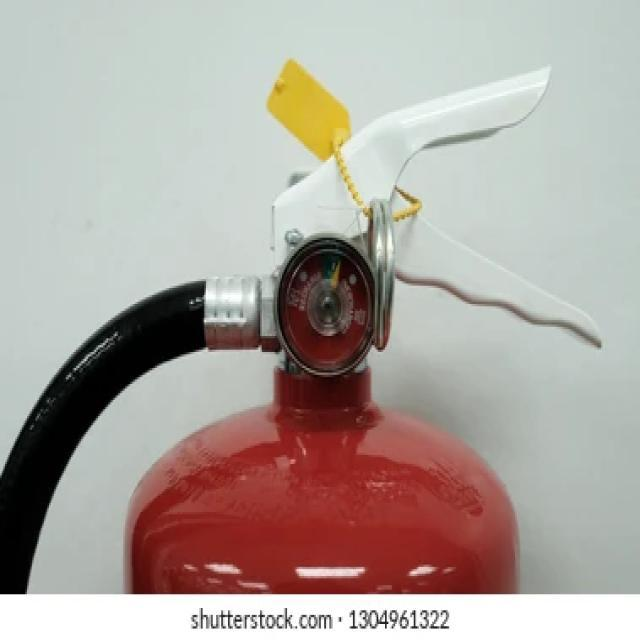pressure gauge: (276, 238, 372, 376)
